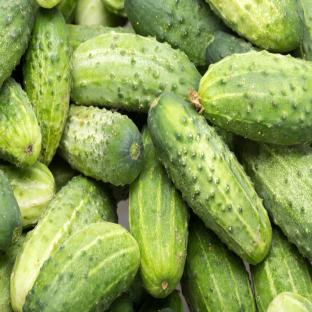Cucumber: (148, 94, 271, 263), (11, 175, 117, 310), (199, 51, 311, 145), (71, 32, 201, 112), (23, 222, 139, 311), (129, 125, 189, 297), (236, 140, 311, 260), (24, 7, 72, 165), (181, 214, 256, 311), (58, 105, 143, 185), (251, 226, 311, 311), (0, 78, 41, 167), (0, 161, 54, 228), (0, 233, 26, 311), (206, 31, 260, 64), (0, 170, 22, 249), (68, 24, 134, 50), (49, 154, 79, 193), (139, 291, 183, 311), (125, 273, 148, 310), (267, 293, 311, 311), (109, 293, 133, 311), (108, 184, 129, 203)
